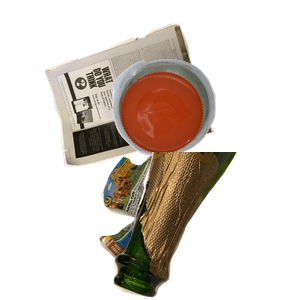glass: (111, 152, 300, 300)
paper: (42, 21, 249, 181)
plastic: (110, 57, 300, 205)
trash: (97, 151, 283, 300)
